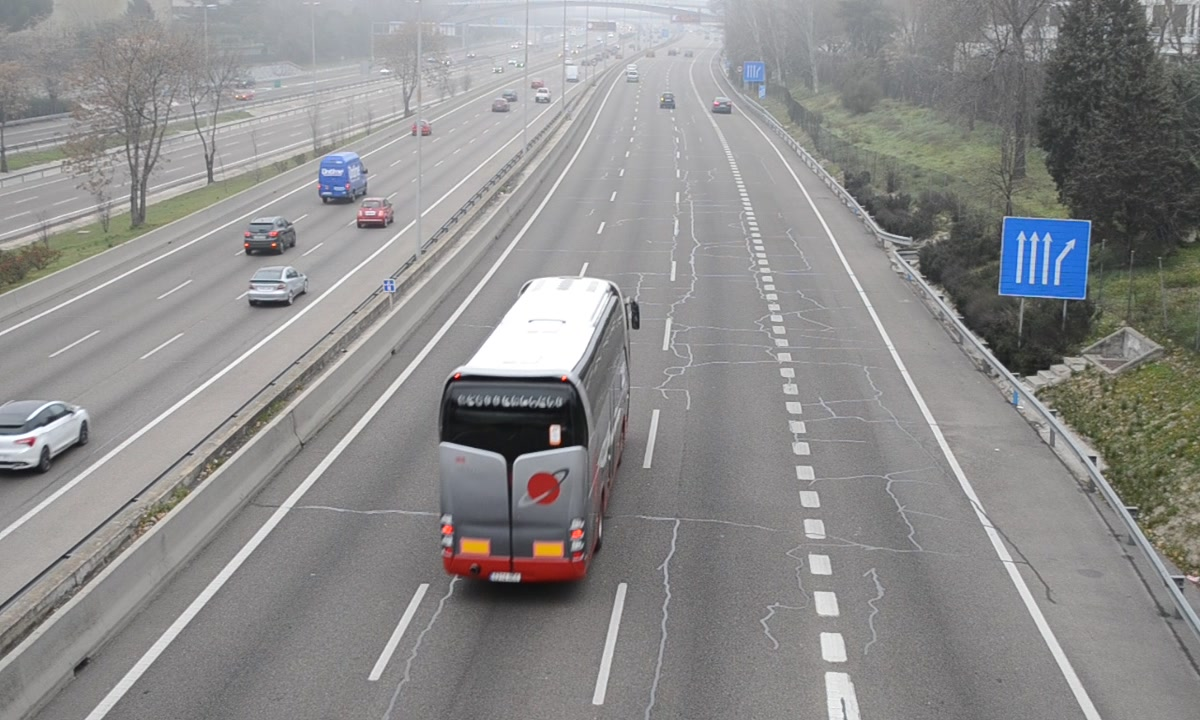bus: (441, 276, 628, 584)
car: (712, 96, 733, 115), (658, 91, 677, 111)
